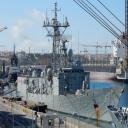Fragata: (10, 1, 128, 126)
